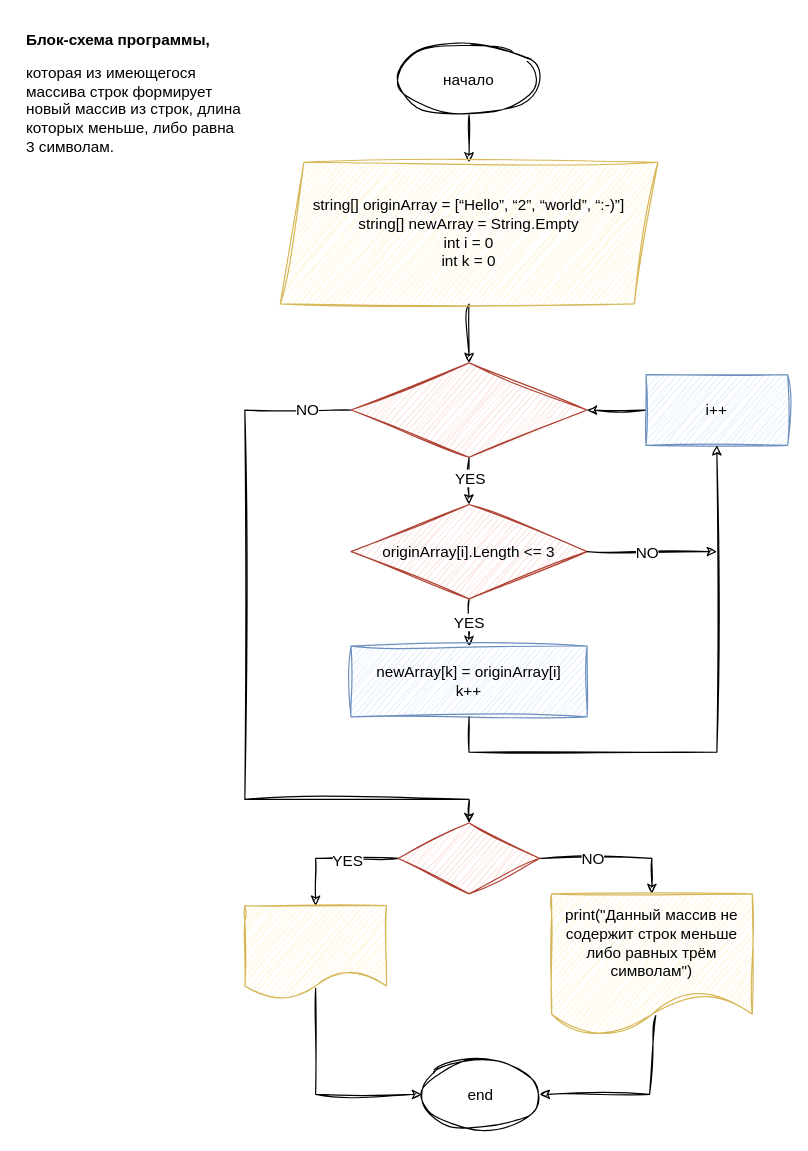
Some shapes in this 808 by 1151 pixel diagram are drawn without their labels. Each missing label, with the centre of its shape:
i < originArray.Length: (468,409)
k > 0: (468,858)
print(newArray): (315,952)
